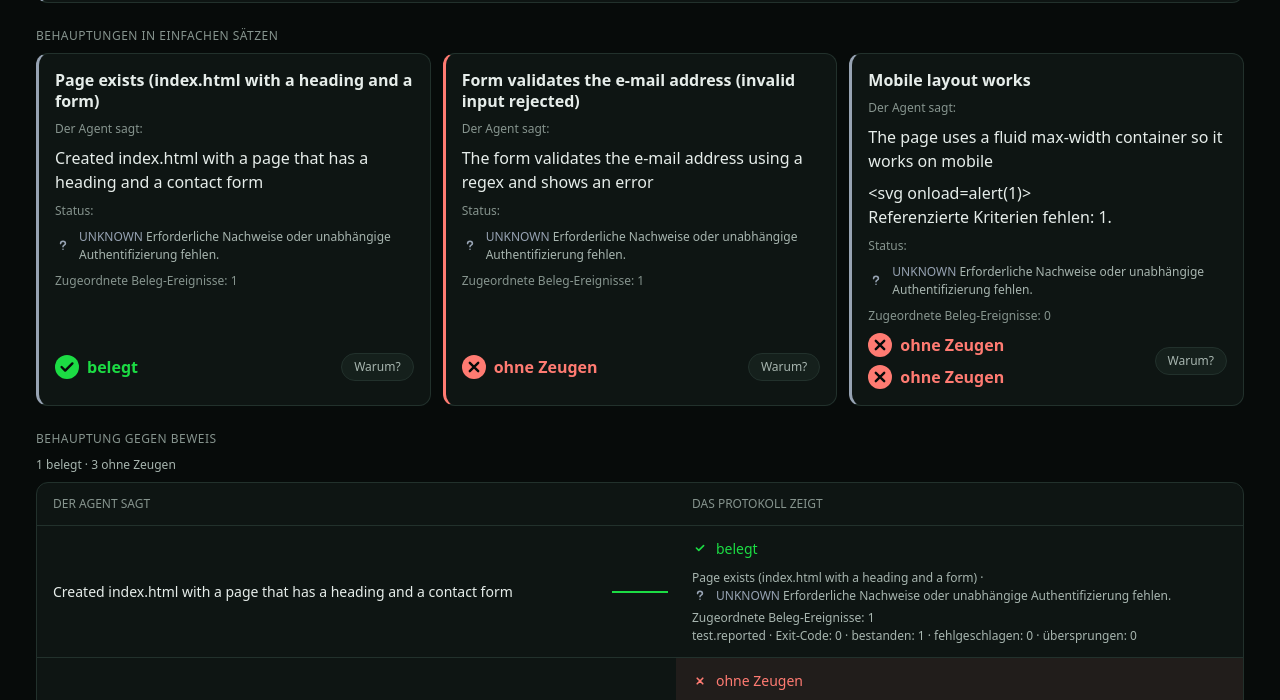
Test: preserves multiple claims and missing evidence references without borrowing unrelated results
(page scrolled)
Expected: the text "<svg onload=alert(1)>" is shown, x1=868 y1=182 x2=1031 y2=204
Expected: the text "Referenzierte Kriterien fehlen: 1." is shown, x1=868 y1=206 x2=1112 y2=228
What coordinates should you click on to do the following:
click the 3rd text "Warum?"
I would click on:
 (1191, 361)
Its box is x1=1154 y1=347 x2=1227 y2=375.
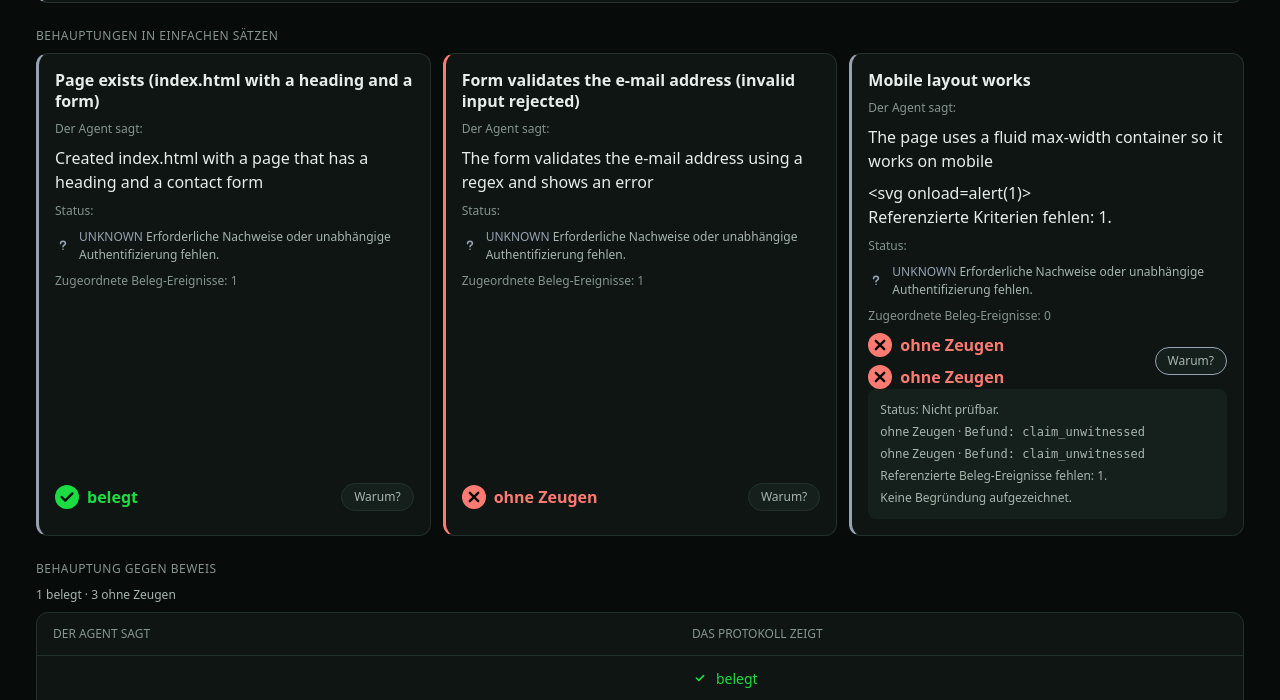
Expected: the text "Exit-Code:" is not shown
Expected: the text "Referenzierte Beleg-Ereignisse fehlen: 1." is shown, x1=880 y1=467 x2=1107 y2=484
Expected: the text "Keine Begründung aufgezeichnet." is shown, x1=880 y1=489 x2=1072 y2=506
